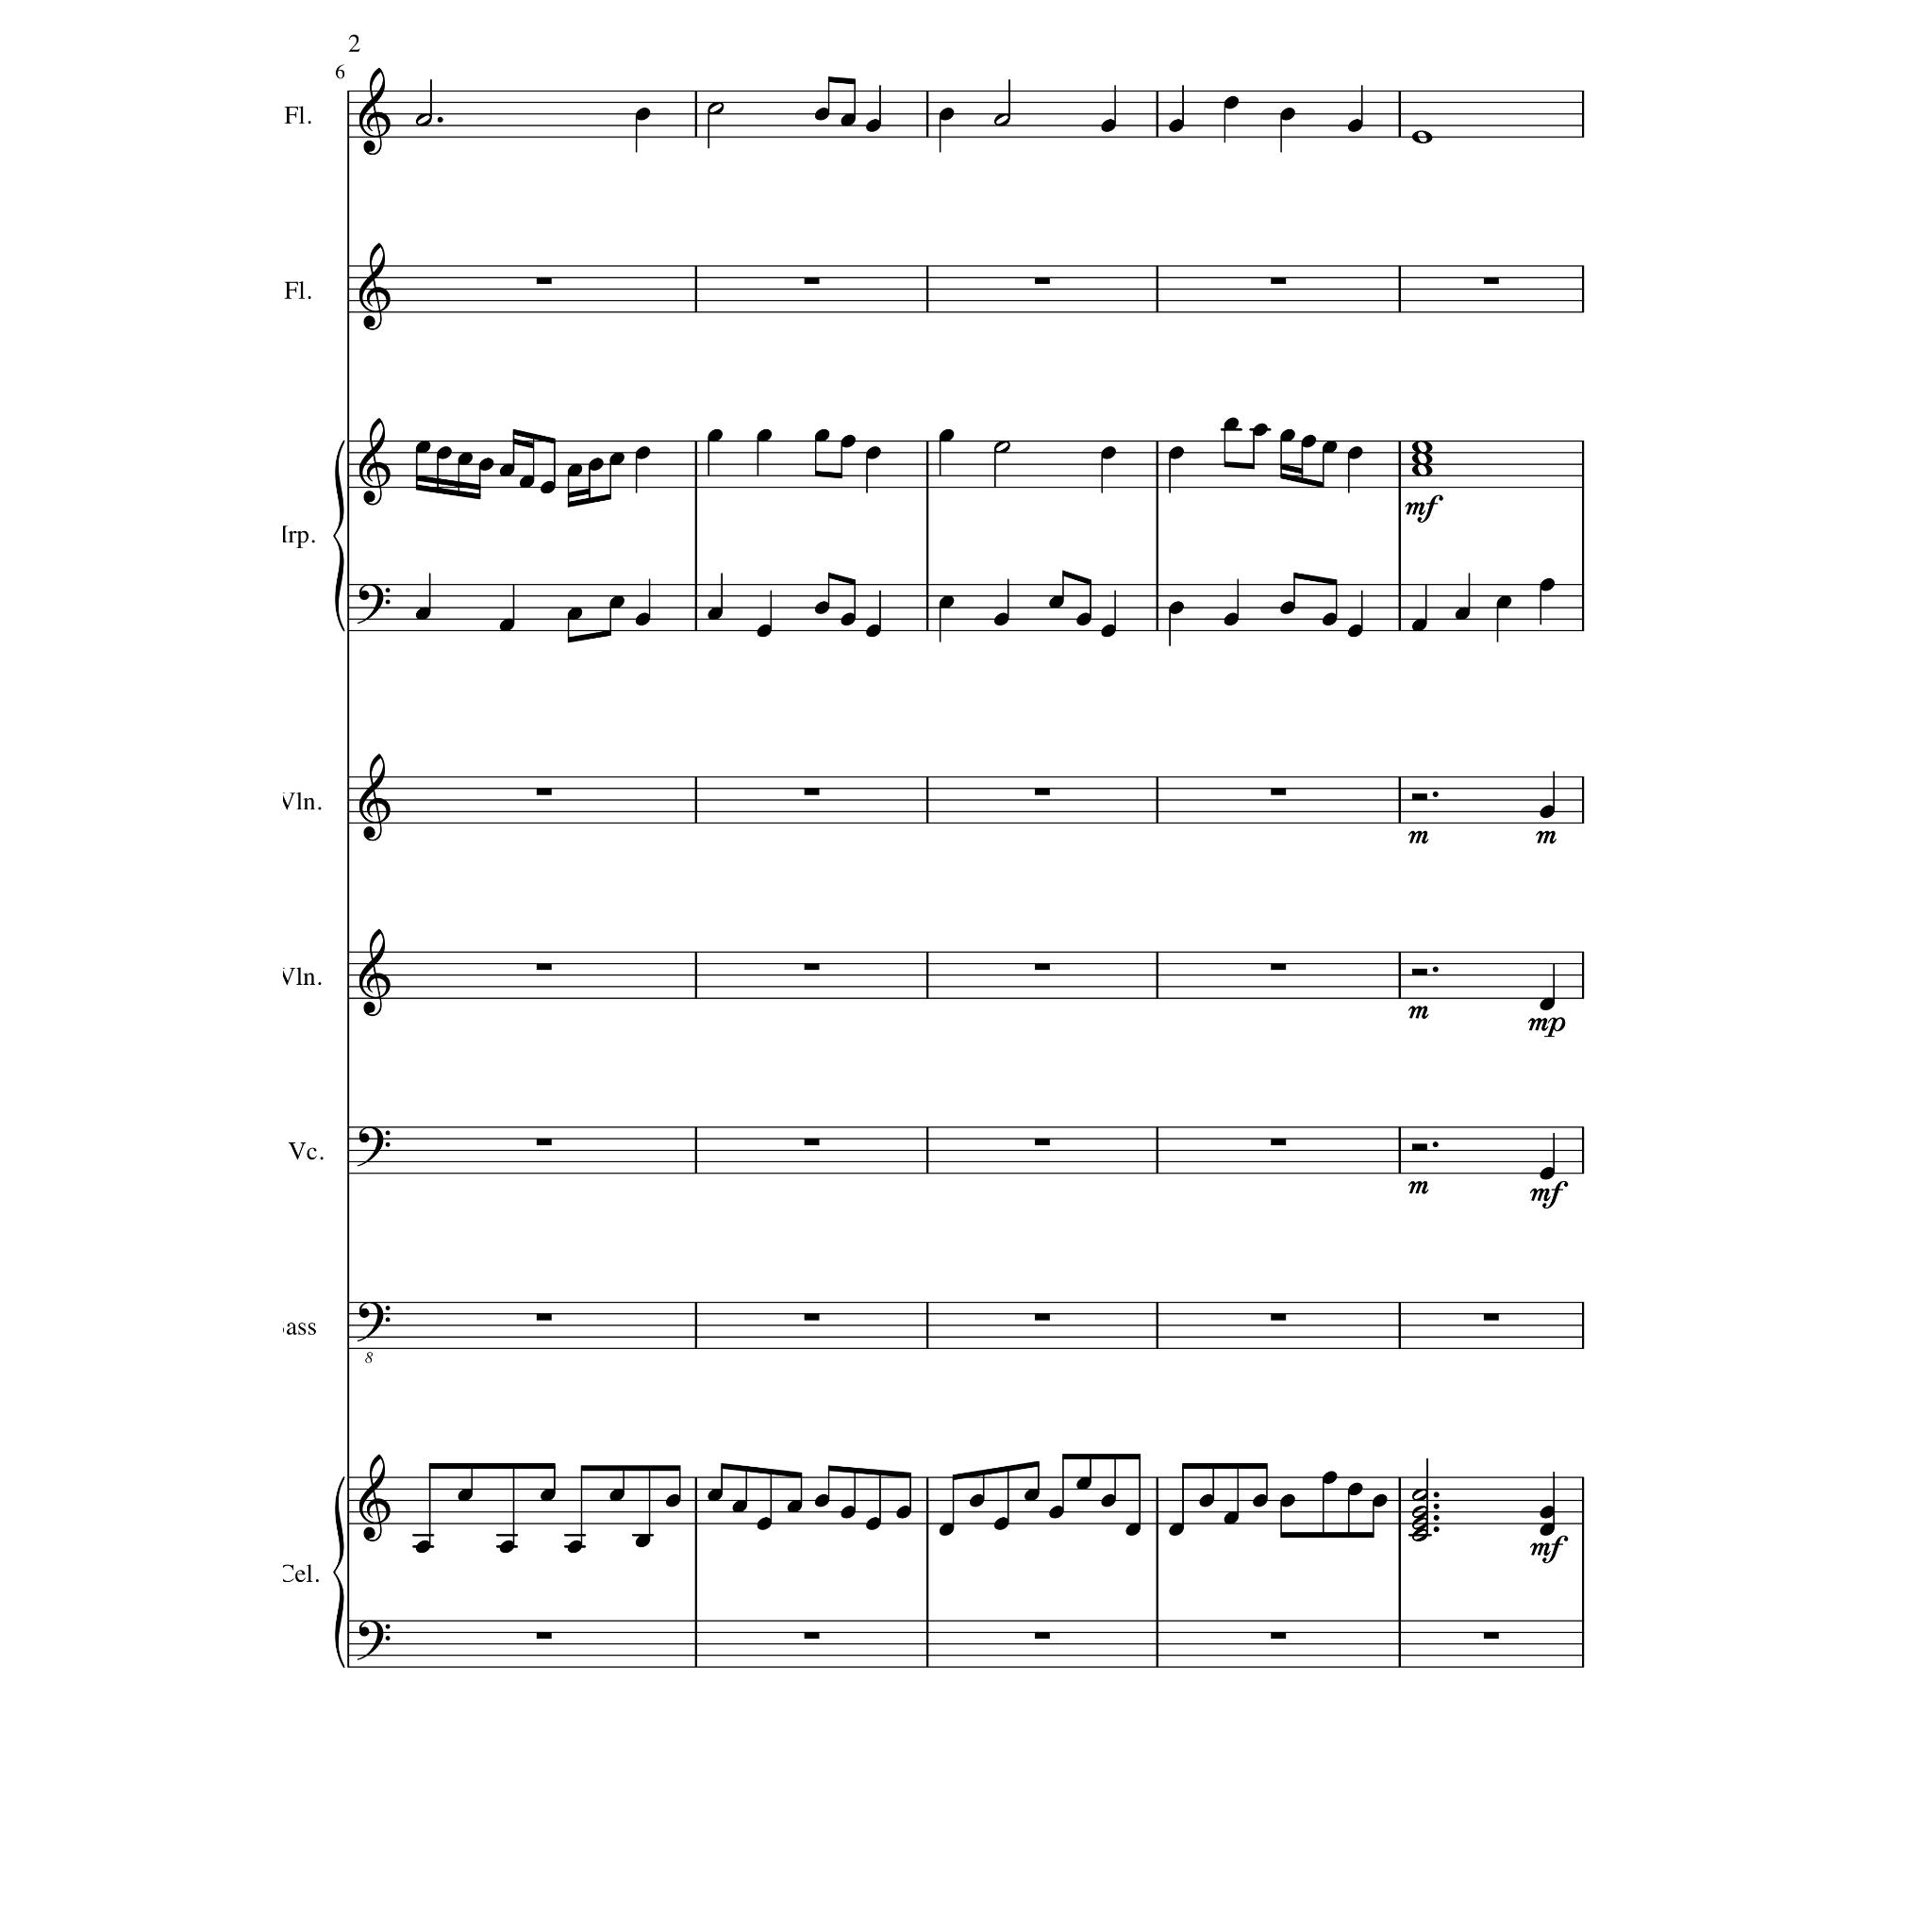brace: (333, 441, 345, 633), (333, 1476, 345, 1668)
fClef: (357, 584, 391, 625), (357, 1127, 391, 1168), (357, 1621, 391, 1661), (357, 1302, 391, 1341)
gClef: (359, 752, 391, 842), (359, 67, 391, 156), (359, 242, 391, 331), (359, 418, 391, 506), (359, 929, 391, 1017), (359, 1454, 391, 1543)
noteheadBlack: (1253, 423, 1269, 437), (1346, 1483, 1362, 1497), (1223, 1511, 1238, 1525), (1223, 96, 1238, 110), (1223, 418, 1238, 432), (1223, 612, 1238, 626), (1322, 612, 1338, 626), (1346, 446, 1362, 460), (1279, 428, 1295, 442), (1279, 600, 1295, 614), (1346, 119, 1362, 133), (1100, 119, 1116, 133), (1100, 446, 1116, 460), (1125, 1522, 1141, 1536), (1024, 1488, 1040, 1502), (1049, 594, 1065, 609), (1076, 612, 1092, 626), (1076, 1476, 1092, 1490), (1168, 119, 1184, 133), (1168, 446, 1184, 460), (1168, 600, 1184, 614), (1168, 1522, 1184, 1536), (1539, 1522, 1555, 1536), (1454, 607, 1470, 621), (1495, 594, 1511, 609), (1539, 805, 1555, 819), (1539, 998, 1555, 1012), (540, 1488, 556, 1502), (566, 464, 582, 478), (566, 607, 582, 621), (587, 458, 603, 472), (478, 458, 494, 472), (499, 464, 515, 478), (708, 428, 724, 442), (708, 607, 724, 621), (708, 1488, 724, 1502), (609, 451, 625, 465), (609, 594, 625, 609), (609, 1488, 625, 1502), (635, 446, 651, 460), (635, 612, 651, 626), (437, 446, 453, 460), (456, 451, 472, 465), (456, 1488, 472, 1502), (414, 607, 430, 621), (938, 428, 954, 442), (938, 594, 954, 609), (938, 1522, 954, 1536), (865, 119, 881, 133), (865, 446, 881, 460), (865, 1516, 881, 1530), (993, 612, 1008, 626), (993, 1516, 1008, 1530), (755, 428, 771, 442), (755, 1516, 771, 1530), (814, 428, 830, 442), (814, 600, 830, 614), (840, 612, 856, 626), (731, 1500, 748, 1513), (1253, 1495, 1269, 1507), (1198, 1495, 1214, 1507), (1300, 435, 1316, 448), (1322, 441, 1338, 453), (1322, 1472, 1338, 1484), (1346, 625, 1362, 637), (1279, 108, 1295, 120), (1279, 1495, 1295, 1507), (1100, 625, 1116, 637), (1100, 1495, 1116, 1507), (1049, 1506, 1065, 1518), (1539, 1168, 1555, 1180), (1539, 1506, 1555, 1518), (1373, 1495, 1389, 1507), (1410, 619, 1426, 632), (1539, 579, 1555, 591), (566, 1541, 582, 1553), (540, 481, 556, 494), (499, 619, 515, 632), (499, 1541, 515, 1553), (518, 476, 534, 488), (665, 1495, 681, 1507), (635, 108, 651, 120), (635, 1534, 651, 1546), (414, 441, 430, 453), (414, 1541, 430, 1553), (938, 108, 954, 120), (895, 1506, 911, 1518), (865, 625, 881, 637), (968, 1495, 984, 1507), (840, 1506, 856, 1518), (755, 625, 771, 637), (814, 108, 830, 120), (814, 1495, 830, 1507), (840, 435, 856, 448), (786, 1500, 801, 1513), (840, 113, 856, 126)
noteheadHalf: (1412, 1488, 1428, 1502), (1412, 1516, 1428, 1530), (1412, 1529, 1428, 1543), (708, 103, 725, 115), (993, 113, 1010, 126), (993, 441, 1010, 453), (1412, 1506, 1428, 1518), (416, 113, 432, 126)
noteheadWhole: (1410, 131, 1433, 145), (1410, 464, 1433, 478), (1410, 451, 1433, 465), (1410, 441, 1433, 455)
restHalf: (1412, 793, 1428, 801), (1412, 1143, 1428, 1152), (1412, 968, 1428, 975)
restWhole: (1483, 1631, 1500, 1640), (1033, 962, 1049, 971), (803, 1631, 819, 1640), (803, 962, 819, 971), (1270, 1631, 1286, 1640), (1270, 962, 1286, 971), (1033, 1631, 1049, 1640), (536, 1631, 552, 1640), (536, 962, 552, 971), (1483, 278, 1500, 285), (1483, 1313, 1500, 1320), (1033, 1313, 1049, 1320), (1033, 1139, 1049, 1146), (1033, 787, 1049, 794), (1033, 278, 1049, 285), (803, 1313, 819, 1320), (803, 1139, 819, 1146), (803, 787, 819, 794), (803, 278, 819, 285), (1270, 1313, 1286, 1320), (1270, 1139, 1286, 1146), (1270, 787, 1286, 794), (1270, 278, 1286, 285), (536, 1313, 552, 1320), (536, 1139, 552, 1146), (536, 278, 552, 285), (536, 787, 552, 794)
